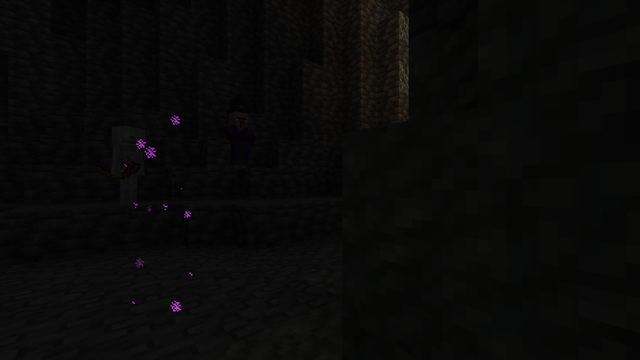sorcieres: (226, 108, 250, 169)
squelettes: (114, 125, 143, 204)
